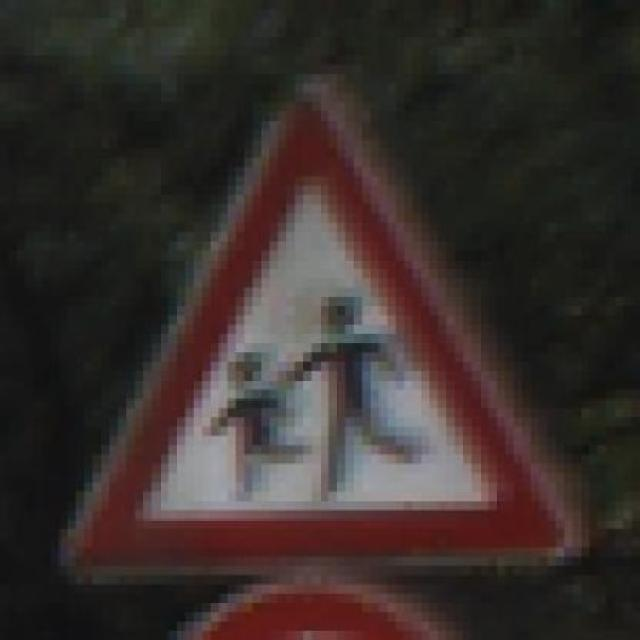Beware of children: (50, 56, 598, 576)
